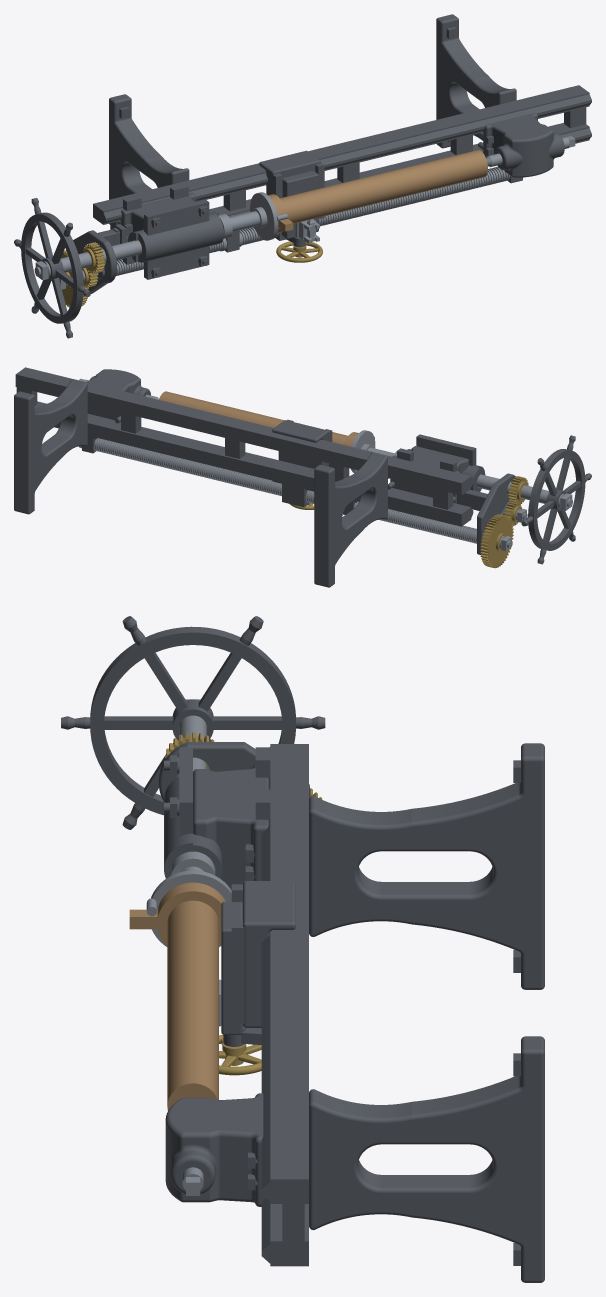
File: assembly.glb
The picture shows the model from 3 angles, top to bottom: view 1: azimuth 30°, elevation 25°; view 2: azimuth 150°, elevation 25°; view 3: azimuth 270°, elevation 25°; orthographic projection. The views are drawn at different scales.
Visible parts, largest first — view 1: JHD_25, RTFD_8, RcBD_0, R4ED_3, JuD_11, JbD_18, R9BD_21, RXED_10, RGHD_5, ROHD_27, JxD_22, JKD_23 (+6 smaller); view 2: JHD_25, JKD_23, JuD_11, JbD_18, RGHD_5, R4ED_3, JxD_22, ROHD_27, RWGD_2, RTFD_8, RdDD_14, R9BD_21 (+4 smaller); view 3: JuD_11, JbD_18, JHD_25, R4ED_3, RTFD_8, R9BD_21, JxD_22, ROHD_27, RcBD_0, RXED_10, JKD_23, RdDD_14 (+2 smaller).
Boxes of the visible parts, x1,y1,x2,y2 form: JHD_25: (93, 85, 591, 229); RTFD_8: (268, 150, 487, 233); RcBD_0: (138, 199, 223, 279); R4ED_3: (14, 198, 90, 338); JuD_11: (436, 14, 516, 148); JbD_18: (109, 94, 189, 224); R9BD_21: (478, 113, 564, 177); RXED_10: (34, 192, 287, 280); RGHD_5: (116, 166, 510, 275); ROHD_27: (259, 150, 324, 247); JxD_22: (117, 184, 218, 264); JKD_23: (209, 123, 591, 217); JHD_25: (15, 367, 473, 509); JKD_23: (34, 401, 473, 526); JuD_11: (14, 379, 87, 514); JbD_18: (314, 452, 387, 587); RGHD_5: (94, 438, 476, 543); R4ED_3: (521, 435, 591, 564); JxD_22: (388, 446, 480, 503); ROHD_27: (272, 419, 332, 507); RWGD_2: (78, 439, 512, 550); RTFD_8: (159, 391, 374, 446); RdDD_14: (457, 473, 515, 554); R9BD_21: (86, 369, 150, 423); JuD_11: (309, 1036, 544, 1282); JbD_18: (309, 743, 544, 989); JHD_25: (261, 744, 308, 1245); R4ED_3: (61, 616, 325, 829); RTFD_8: (129, 882, 225, 1110); R9BD_21: (165, 1093, 265, 1206); JxD_22: (193, 747, 270, 889); ROHD_27: (223, 881, 295, 1046); RcBD_0: (164, 747, 192, 878); RXED_10: (146, 699, 231, 946); JKD_23: (261, 1198, 308, 1266); RdDD_14: (158, 742, 309, 801).
Bounding box in the file's own units: 1.42 × 0.3025 × 0.564.
